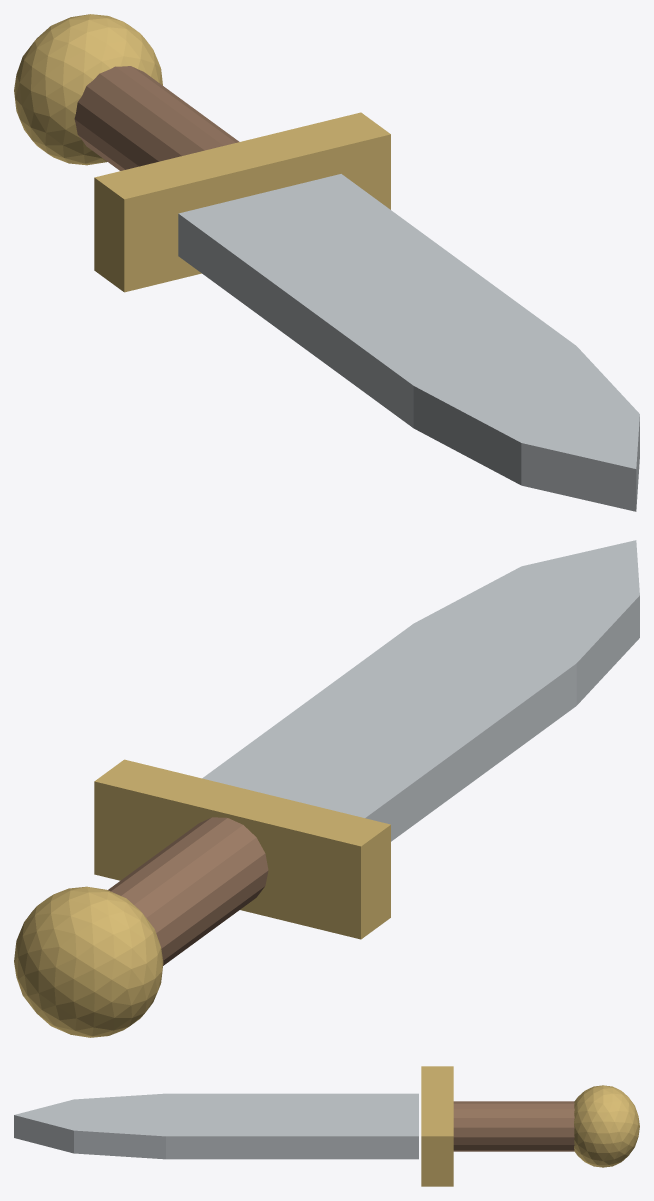
Rendered from captain_weapon_gladius.glb.
3 views of the same model, one above another, from view 1: azimuth 30°, elevation 25°; view 2: azimuth 150°, elevation 25°; view 3: azimuth 270°, elevation 25° (orthographic). The views are drawn at different scales.
Parts seen in each view (by area): view 1: gladius_blade, cross_guard, pommel, leather_grip; view 2: gladius_blade, cross_guard, pommel, leather_grip; view 3: gladius_blade, leather_grip, pommel, cross_guard.
Boxes of the visible parts, box(x1,y1,x2,y2) form: gladius_blade: box(178, 174, 639, 511); cross_guard: box(94, 112, 390, 292); pommel: box(14, 14, 162, 165); leather_grip: box(74, 66, 239, 170); gladius_blade: box(202, 540, 639, 841); cross_guard: box(94, 759, 390, 939); pommel: box(14, 886, 163, 1037); leather_grip: box(108, 817, 268, 965); gladius_blade: box(14, 1093, 418, 1159); leather_grip: box(453, 1101, 574, 1151); pommel: box(574, 1085, 639, 1167); cross_guard: box(421, 1066, 453, 1186).
Bounding box in the file's own units: 0.36 × 0.18 × 1.36.
